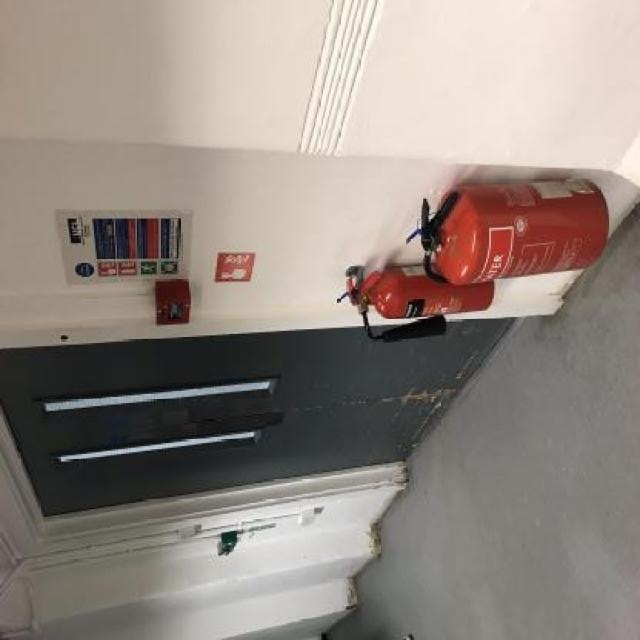fire extinguisher: (419, 177, 610, 286), (345, 259, 495, 344)
